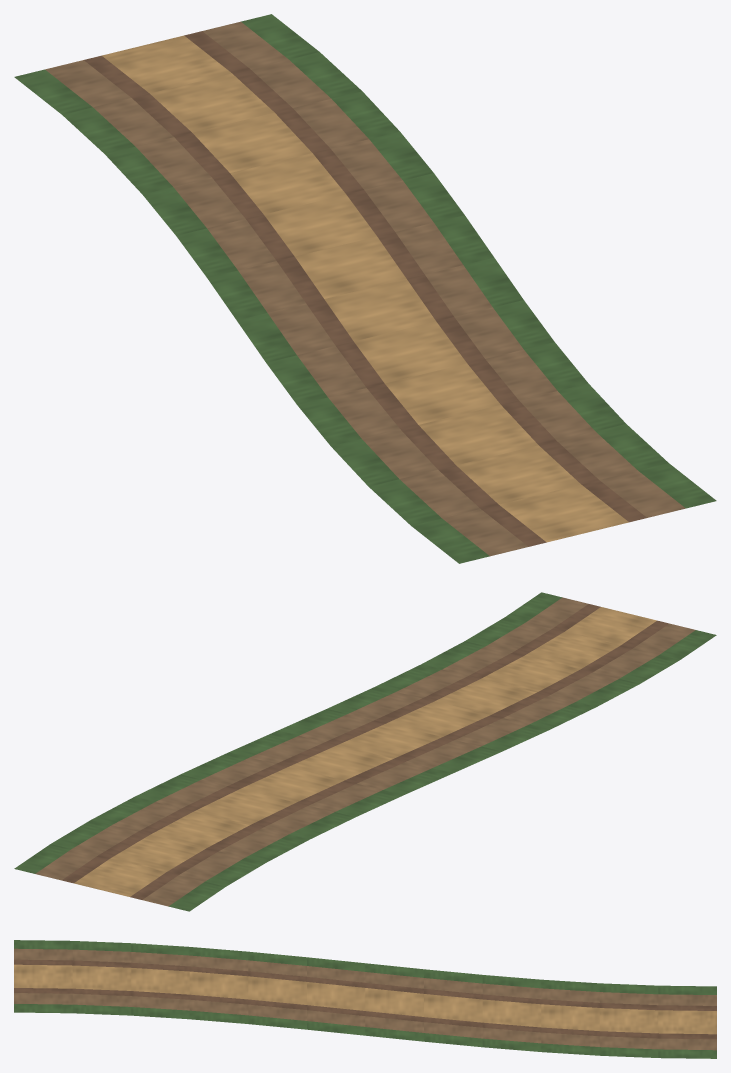
Rendered from road_dirt_curve.fbx.
The picture shows the model from 3 angles, top to bottom: view 1: azimuth 30°, elevation 25°; view 2: azimuth 150°, elevation 25°; view 3: azimuth 270°, elevation 25°; orthographic projection. The views are drawn at different scales.
Parts seen in each view (by area): view 1: road_dirt_curve; view 2: road_dirt_curve; view 3: road_dirt_curve.
Part boxes in pixels (bbox=[...]): road_dirt_curve: bbox=[14, 14, 716, 563]; road_dirt_curve: bbox=[14, 592, 716, 911]; road_dirt_curve: bbox=[14, 940, 716, 1058].
Size of the model in its own units: 400 by 0.000163 by 1000.
Materials: 1 (1 with a texture image).
